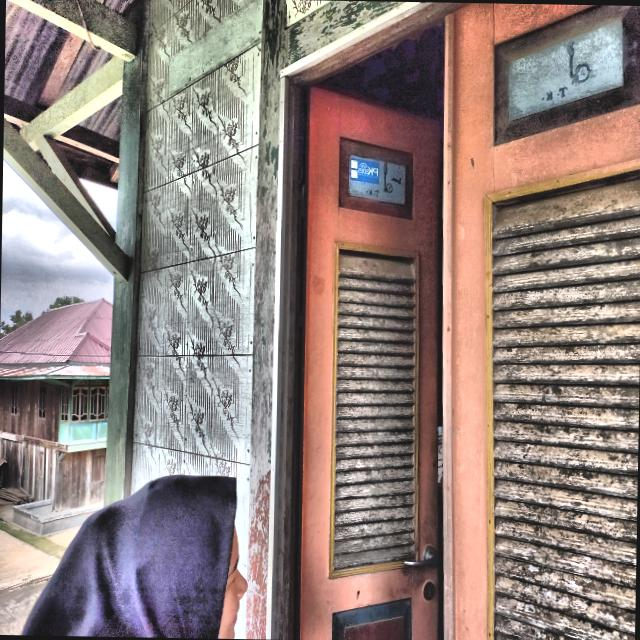door: (288, 3, 640, 640)
ornamen: (70, 423, 95, 443), (97, 422, 107, 440)
roof: (4, 1, 112, 126), (0, 297, 112, 376), (57, 98, 120, 188), (97, 0, 134, 15)
wall: (129, 0, 263, 575), (0, 379, 60, 442), (0, 437, 55, 501), (61, 447, 106, 511)
window: (71, 386, 89, 421), (89, 386, 105, 420), (60, 388, 69, 421), (38, 385, 45, 417), (11, 384, 17, 414)
